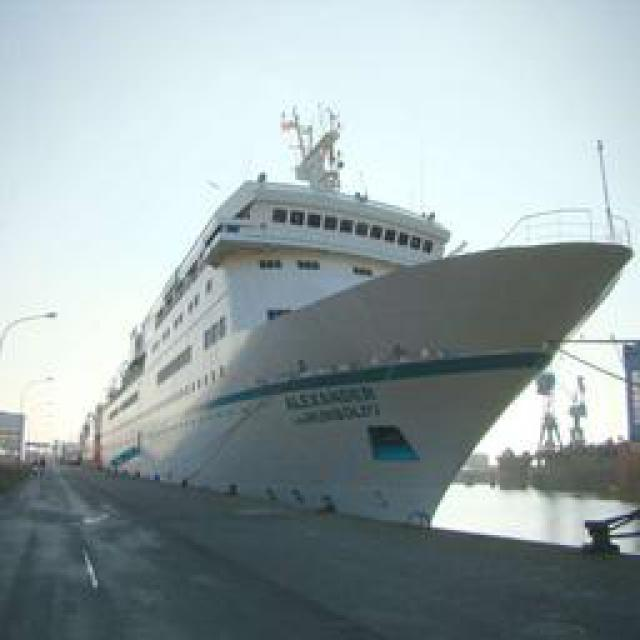Ship: (65, 181, 635, 549)
